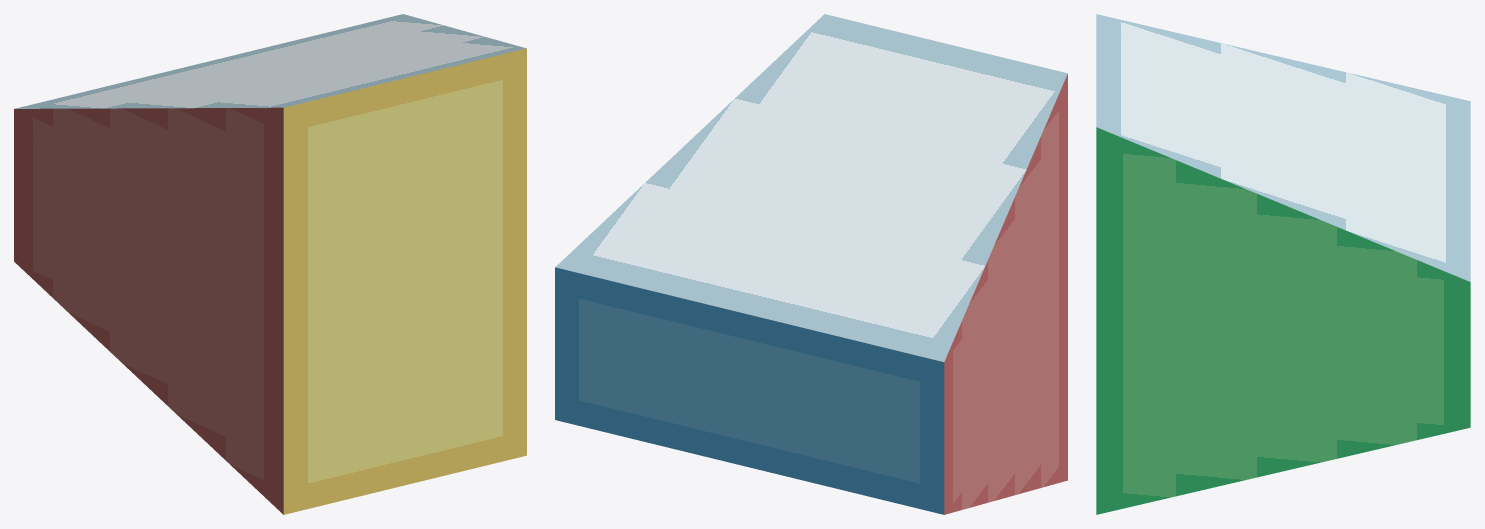
File: starship.gltf
3 renders of one model, left to right at view 1: azimuth 30°, elevation 25°; view 2: azimuth 150°, elevation 25°; view 3: azimuth 270°, elevation 25°, orthographic. The views are drawn at different scales.
Visible parts, largest first — view 1: cuboid; view 2: cuboid; view 3: cuboid.
Part boxes in pixels (x1=…): cuboid: x1=14, y1=14, x2=526, y2=514; cuboid: x1=555, y1=14, x2=1067, y2=514; cuboid: x1=1096, y1=14, x2=1470, y2=514.
Bounding box in the file's own units: 1 × 1 × 0.875.
1 material, 1 textured.
